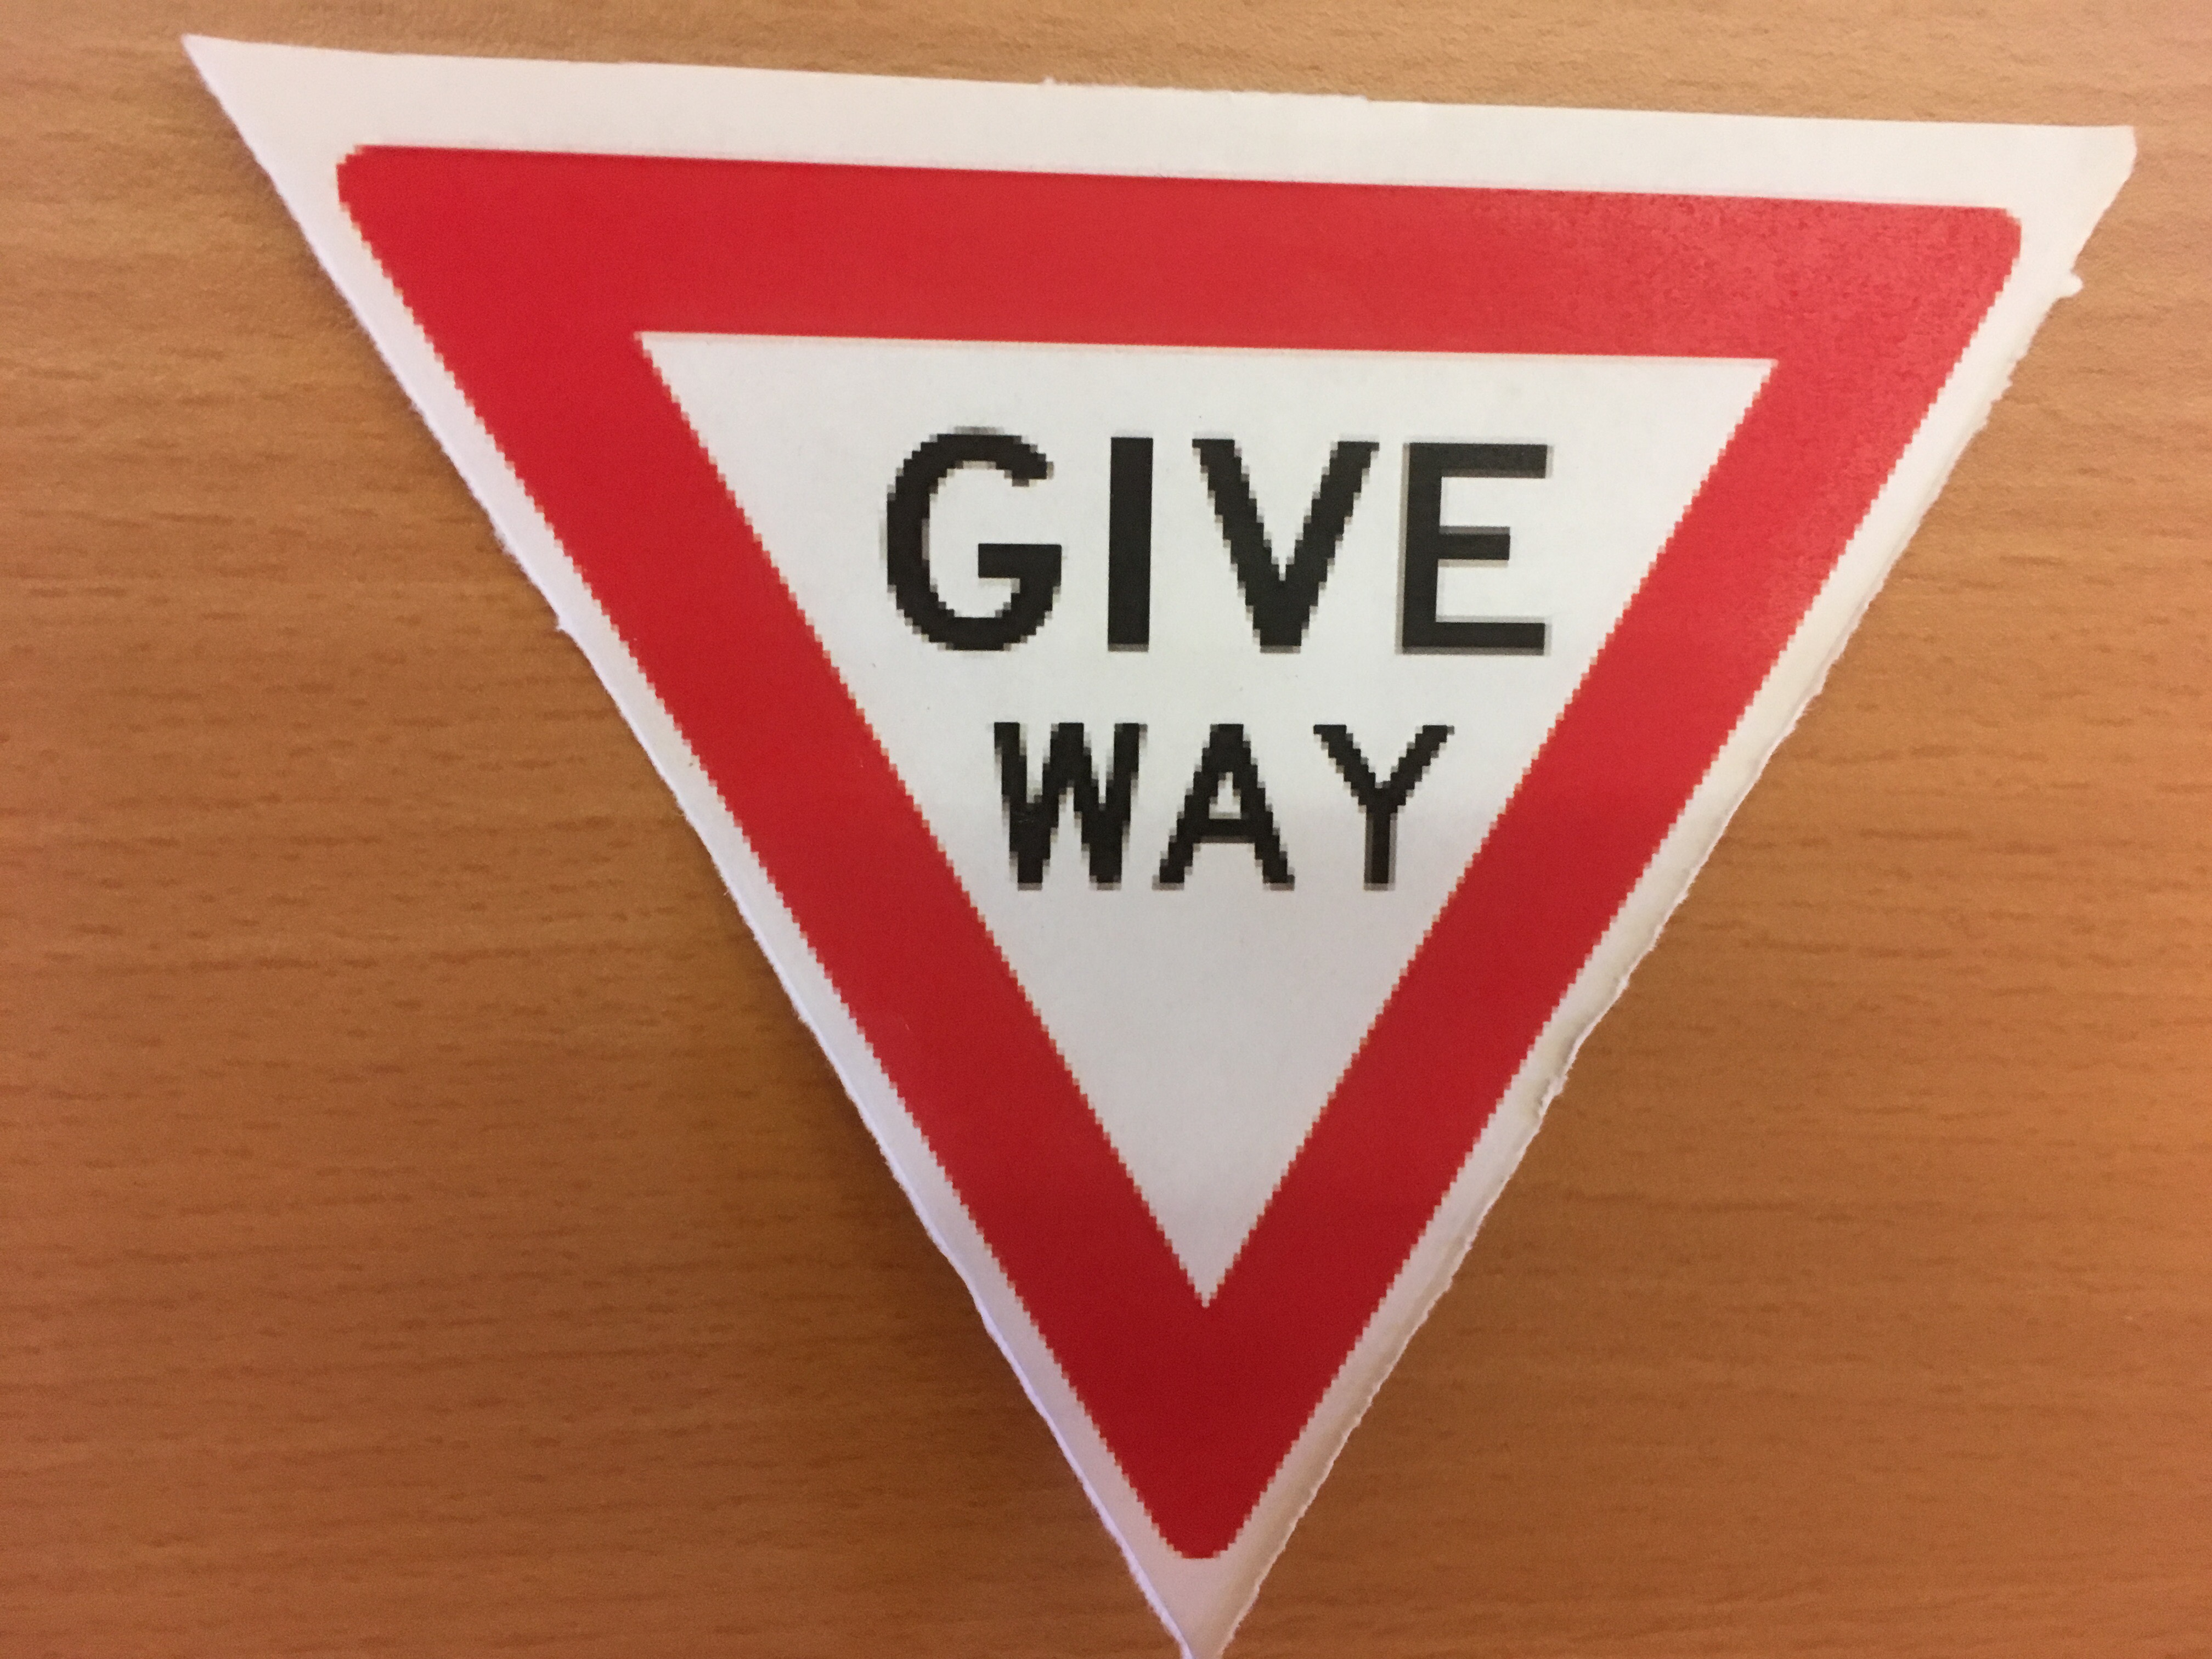giveway: (324, 148, 2020, 1549), (303, 139, 1231, 1572), (1148, 153, 2027, 1577), (803, 629, 1770, 1554), (939, 125, 1498, 1595), (374, 185, 1871, 629)
